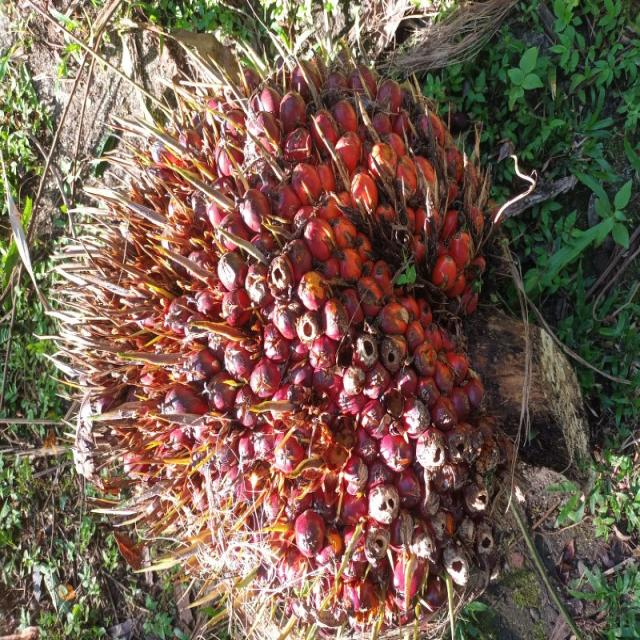fraksi 3: (8, 70, 448, 640)
